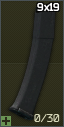PP-19-01 Vityaz-SN 9x19 30-round magazine: (0, 0, 64, 127)
